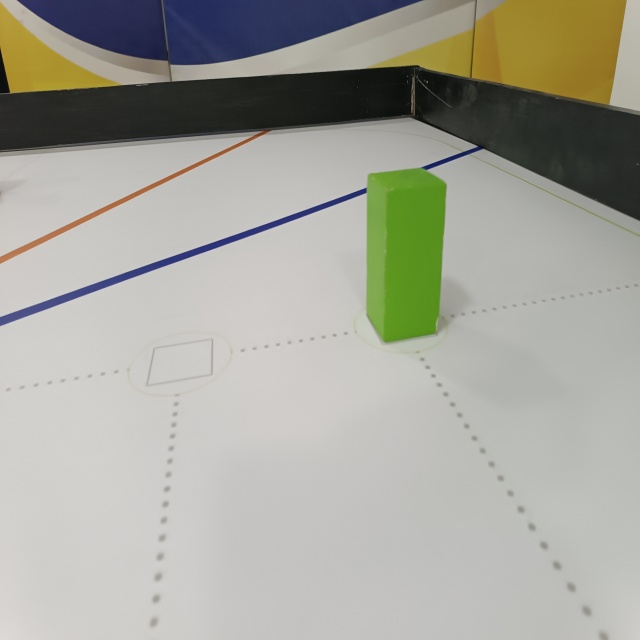blue line: (0, 149, 487, 327)
green rectangular prism: (361, 167, 448, 347)
orange line: (0, 123, 271, 263)
